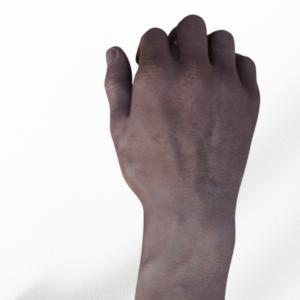rock: (105, 15, 260, 300)
